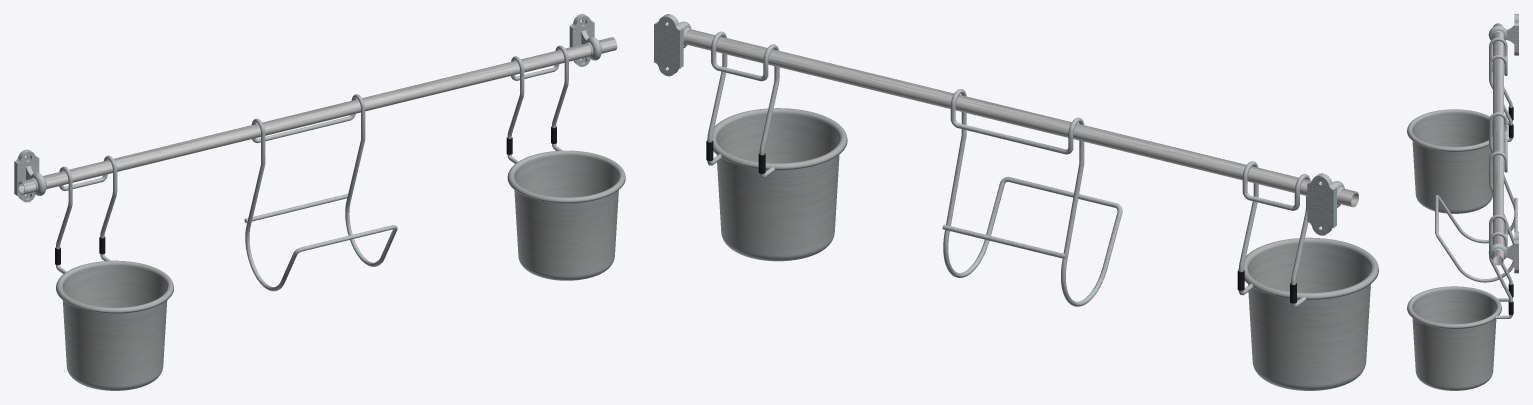
The model's file is 023 - stand divari ikea talaei.glb.
The picture shows the model from 3 angles, left to right: view 1: azimuth 30°, elevation 25°; view 2: azimuth 150°, elevation 25°; view 3: azimuth 270°, elevation 25°; orthographic projection. The views are drawn at different scales.
Parts seen in each view (by area): view 1: Group#12 [116195] (×2), Group#17 [143215], Group#14 [116183], [43342] (×2), Group#2 [116171], Group#182 [116158]; view 2: Group#12 [116195] (×2), Group#17 [143215], Group#14 [116183], [43342] (×2), Group#2 [116171], Group#182 [116158], Group#15 [116182]; view 3: Group#12 [116195] (×2), Group#17 [143215], Group#14 [116183], [43342] (×2), Group#4 [116169] (×2), Group#3 [116170] (×2), Group#182 [116158], Group#2 [116171], Group#15 [116182].
Part boxes in pixels (left/top/right/bottom): Group#12 [116195] (×2): left=56, top=150, right=625, bottom=390; Group#17 [143215]: left=18, top=37, right=617, bottom=194; Group#14 [116183]: left=245, top=94, right=397, bottom=291; [43342] (×2): left=56, top=45, right=607, bottom=313; Group#2 [116171]: left=14, top=149, right=39, bottom=202; Group#182 [116158]: left=569, top=14, right=594, bottom=66; Group#12 [116195] (×2): left=712, top=108, right=1378, bottom=390; Group#17 [143215]: left=667, top=23, right=1358, bottom=207; Group#14 [116183]: left=943, top=89, right=1122, bottom=306; [43342] (×2): left=707, top=31, right=1334, bottom=307; Group#2 [116171]: left=1307, top=173, right=1336, bottom=235; Group#182 [116158]: left=654, top=14, right=683, bottom=76; Group#15 [116182]: left=942, top=224, right=1066, bottom=258; Group#12 [116195] (×2): left=1407, top=109, right=1501, bottom=390; Group#17 [143215]: left=1493, top=23, right=1503, bottom=265; Group#14 [116183]: left=1435, top=112, right=1517, bottom=282; [43342] (×2): left=1420, top=37, right=1512, bottom=329; Group#4 [116169] (×2): left=1488, top=26, right=1507, bottom=259; Group#3 [116170] (×2): left=1506, top=25, right=1514, bottom=261; Group#182 [116158]: left=1514, top=231, right=1518, bottom=273; Group#2 [116171]: left=1514, top=14, right=1518, bottom=55; Group#15 [116182]: left=1514, top=197, right=1517, bottom=231.
Bounding box in the file's own units: 0.8 × 0.2667 × 0.163.
Materials: 5 (5 with a texture image).
